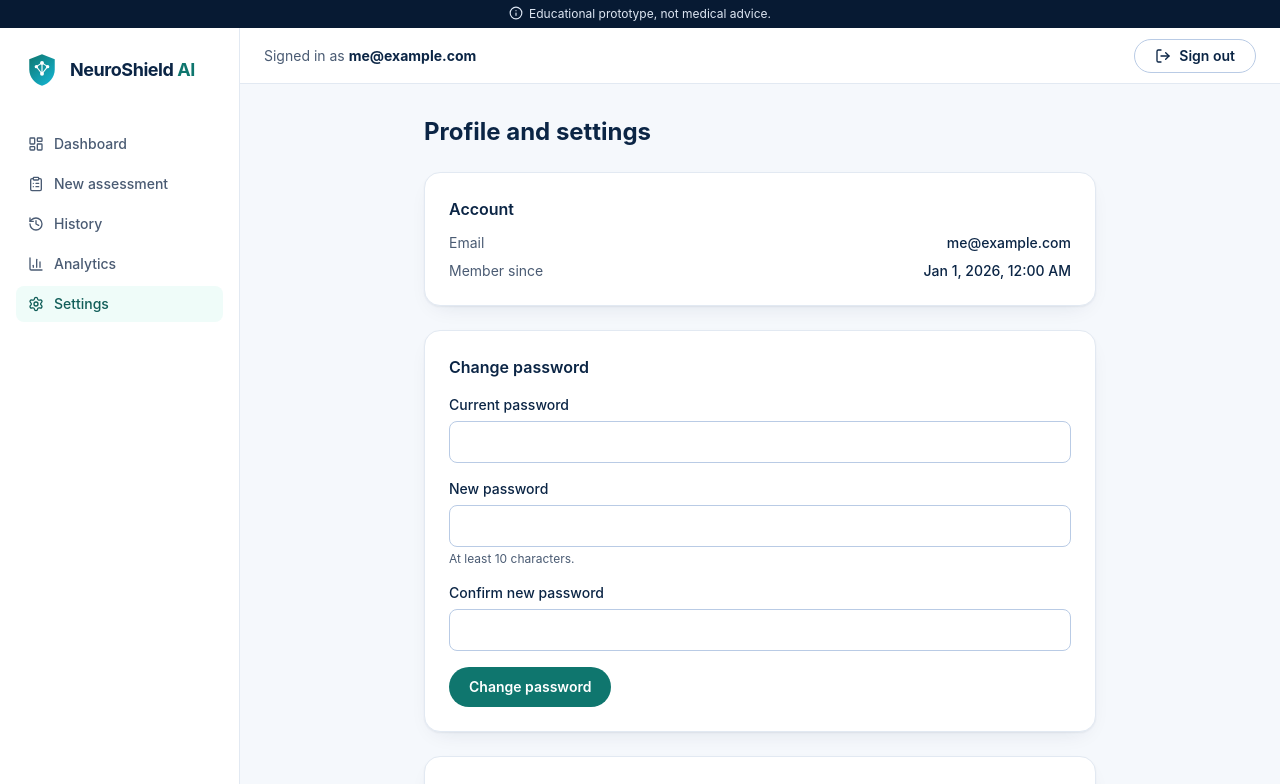
Scenario: settings › changes the password and reports success
The image size is (1280, 784).
In the password field labelled "Current password": (760, 442) [449,421,1071,463], type "old-password-1"
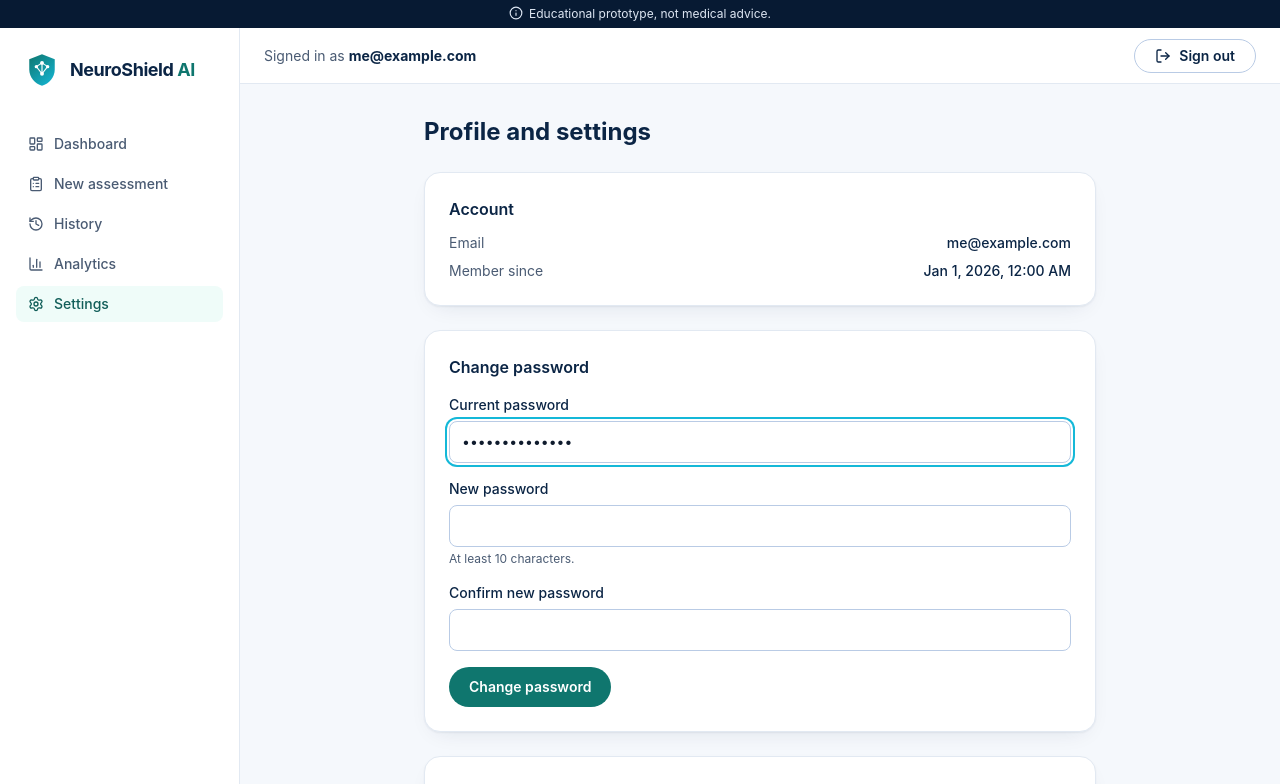
In the password field labelled "New password": (760, 526) [449,505,1071,547], type "brand-new-pass-1"
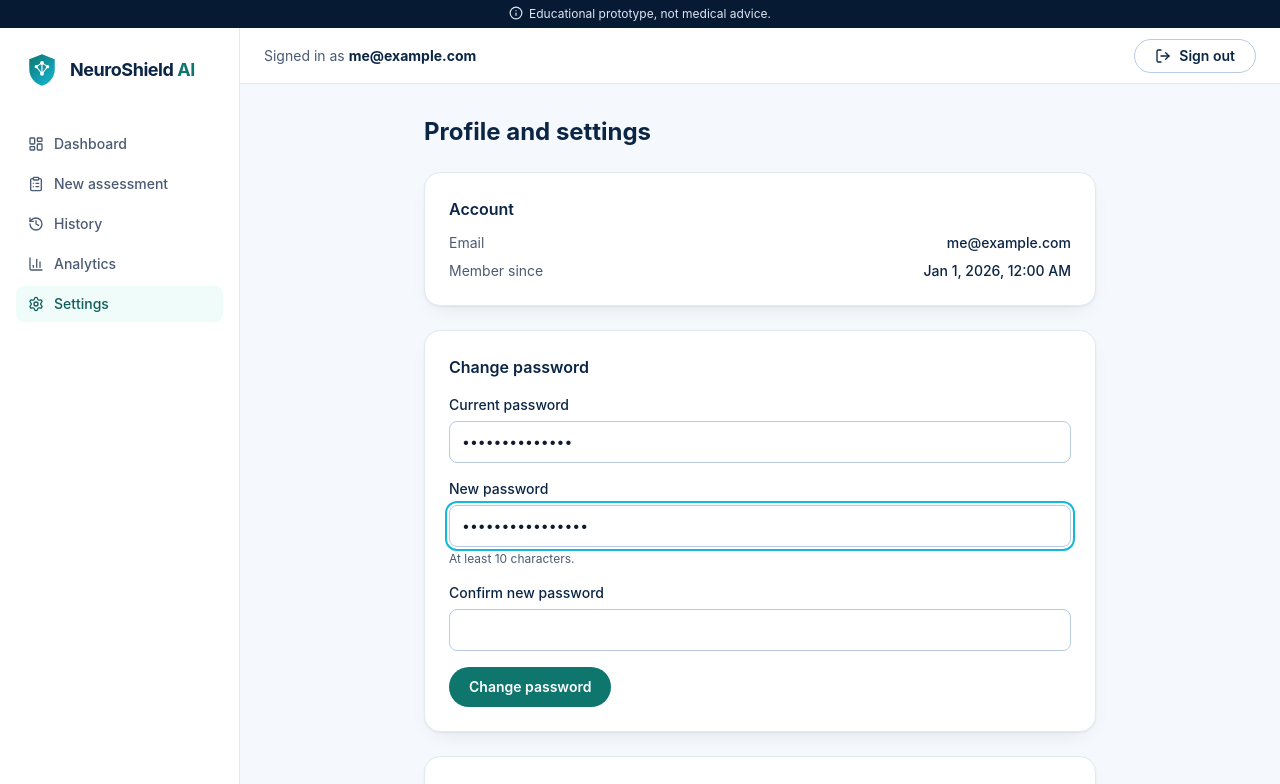
In the password field labelled "Confirm new password": (760, 630) [449,609,1071,651], type "brand-new-pass-1"
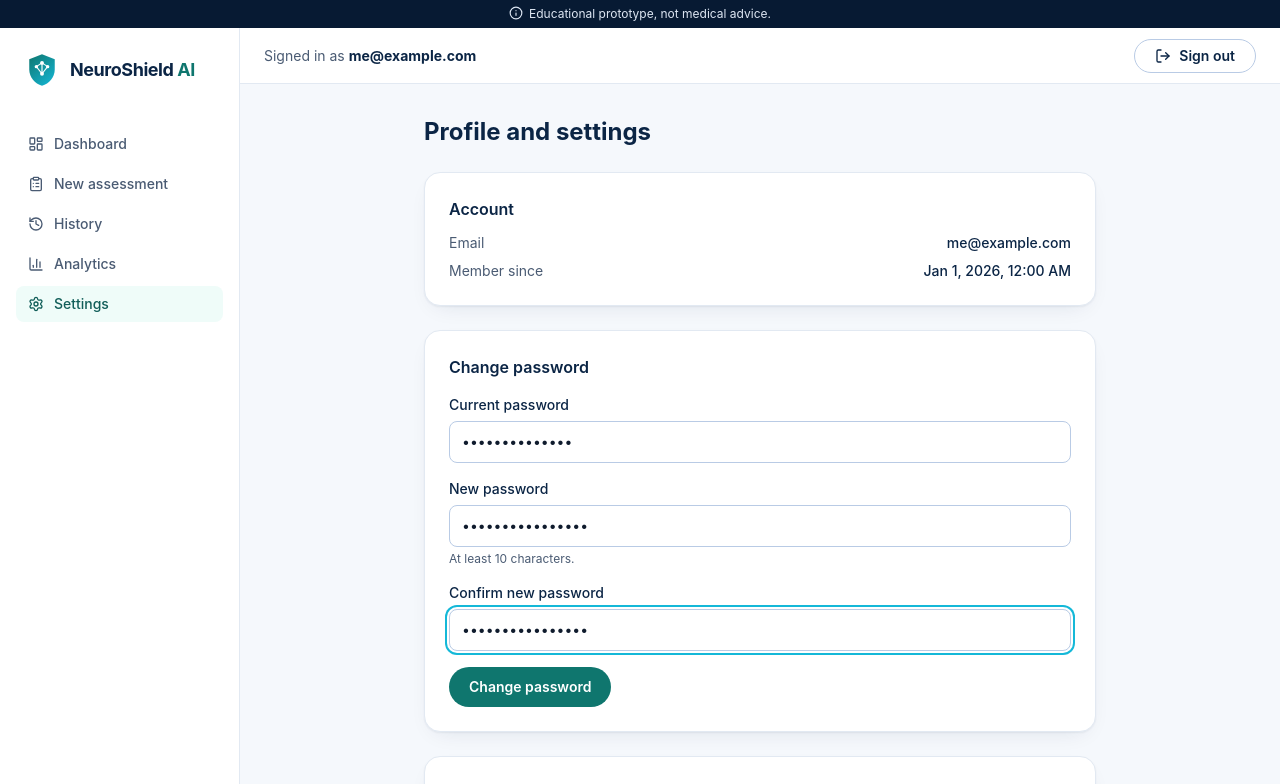
Click the button "Change password": (530, 687) [449,667,611,707]
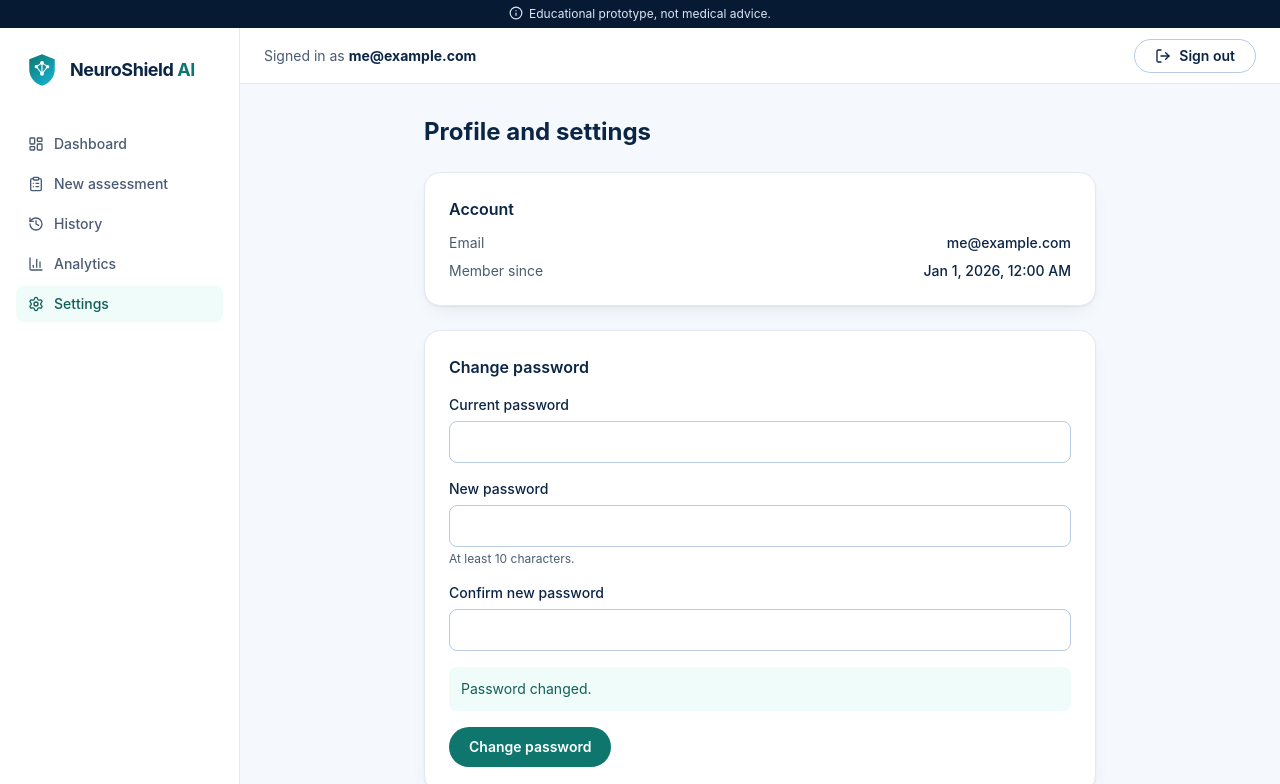
Now the text "Password changed." is shown, box [449,667,1071,711]
